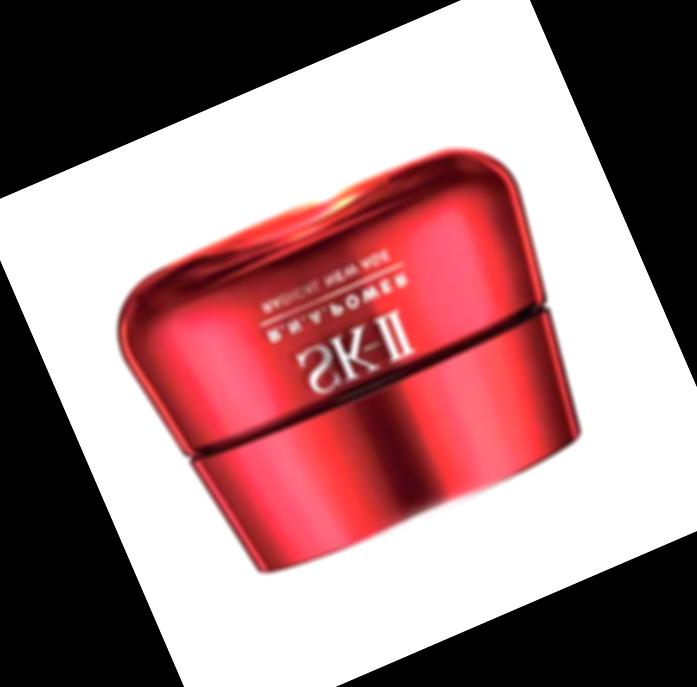cosmetic: (111, 137, 611, 593)
